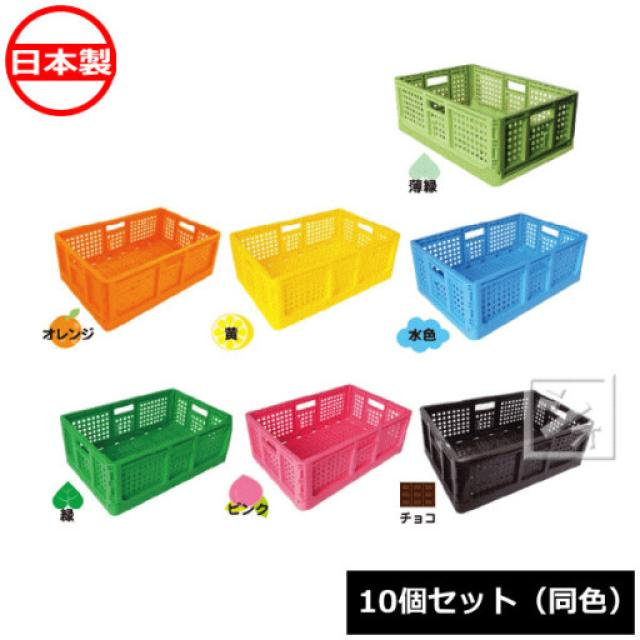basket: (397, 163, 606, 353), (232, 339, 427, 521), (48, 349, 248, 525), (40, 164, 236, 339), (376, 45, 588, 202), (220, 169, 415, 337), (420, 383, 603, 518)
